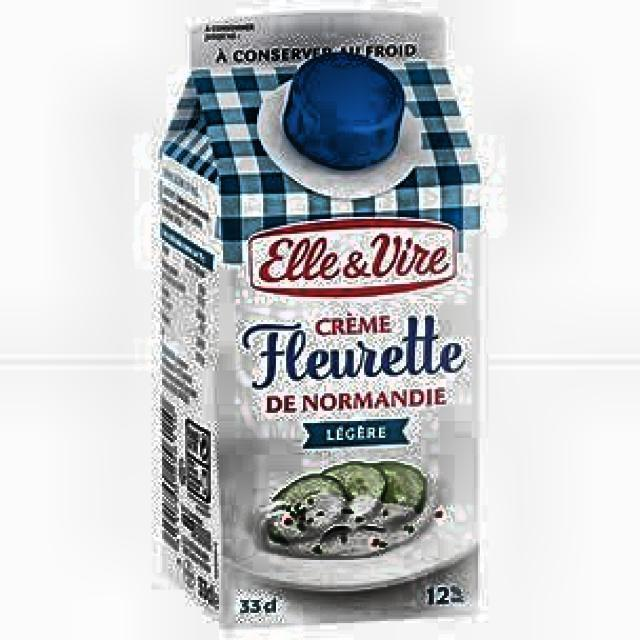cardboard: (156, 8, 482, 626)
